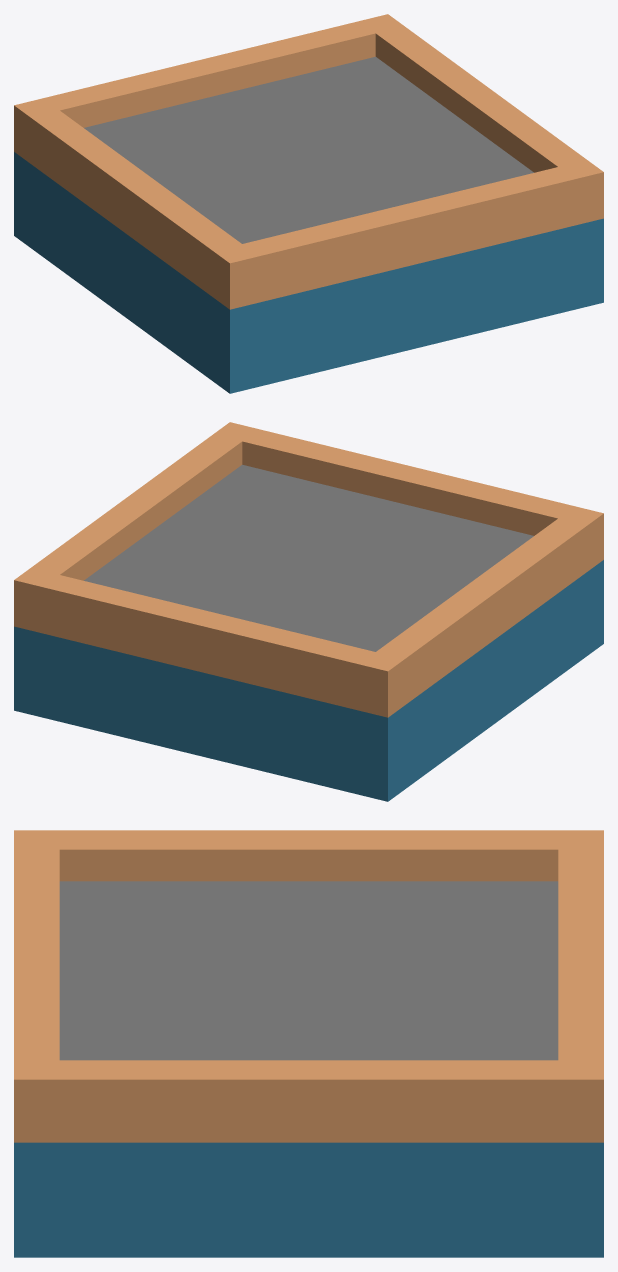
Rendered from SkyScraper_Top_04_blue.fbx.
The picture shows the model from 3 angles, top to bottom: view 1: azimuth 30°, elevation 25°; view 2: azimuth 150°, elevation 25°; view 3: azimuth 270°, elevation 25°; orthographic projection. The views are drawn at different scales.
Parts seen in each view (by area): view 1: SkyScraper_Top_54; view 2: SkyScraper_Top_54; view 3: SkyScraper_Top_54.
Boxes of the visible parts, bbox=[...] form: SkyScraper_Top_54: bbox=[14, 14, 603, 393]; SkyScraper_Top_54: bbox=[14, 422, 603, 801]; SkyScraper_Top_54: bbox=[14, 830, 603, 1257].
Bounding box in the file's own units: 96 × 32 × 96.
